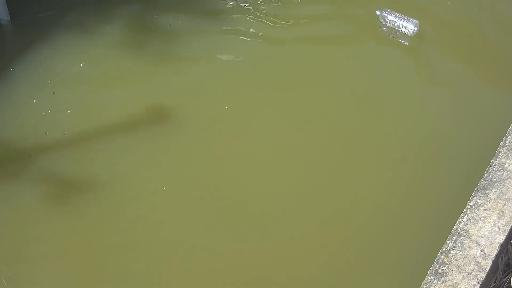plastic: (369, 0, 424, 41)
